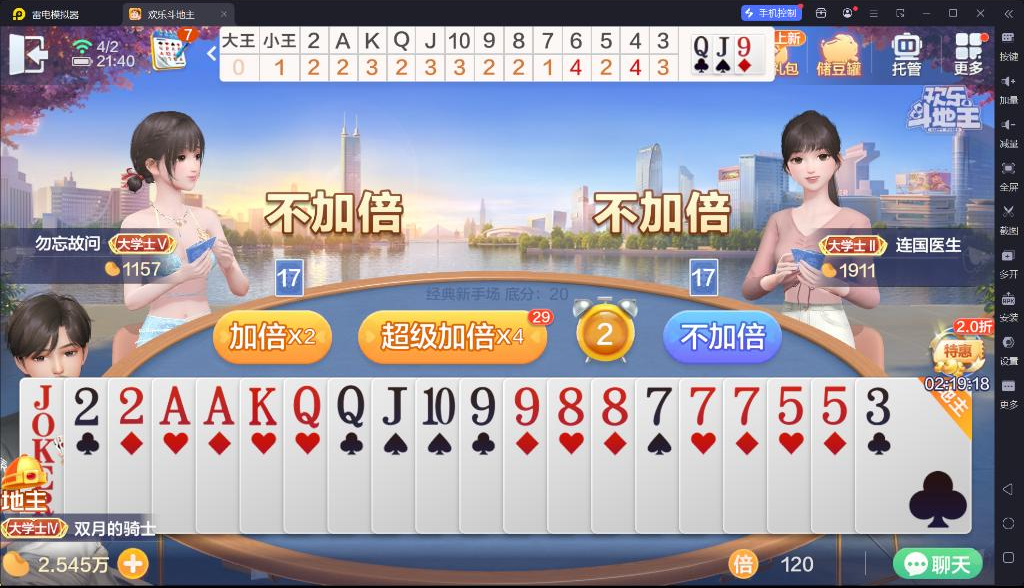A: (157, 384, 192, 428), (201, 383, 235, 428)
J: (376, 381, 410, 427), (715, 36, 731, 57)
JOKER: (30, 384, 60, 470)
K: (244, 383, 279, 428)
Q: (333, 382, 367, 429), (290, 382, 322, 429), (692, 35, 709, 58)
eight: (554, 383, 586, 428), (598, 384, 630, 427)
five: (772, 384, 806, 427), (818, 384, 850, 427)
nine: (465, 382, 497, 428), (509, 383, 541, 428), (737, 36, 753, 58)
seven: (643, 384, 675, 428), (686, 384, 718, 427), (730, 384, 760, 427)
ten: (420, 383, 456, 428)
three: (864, 384, 892, 428)
two: (70, 382, 102, 428), (115, 383, 147, 428)
